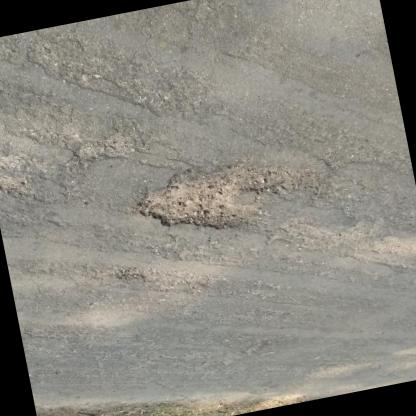pothole: (132, 148, 304, 250)
